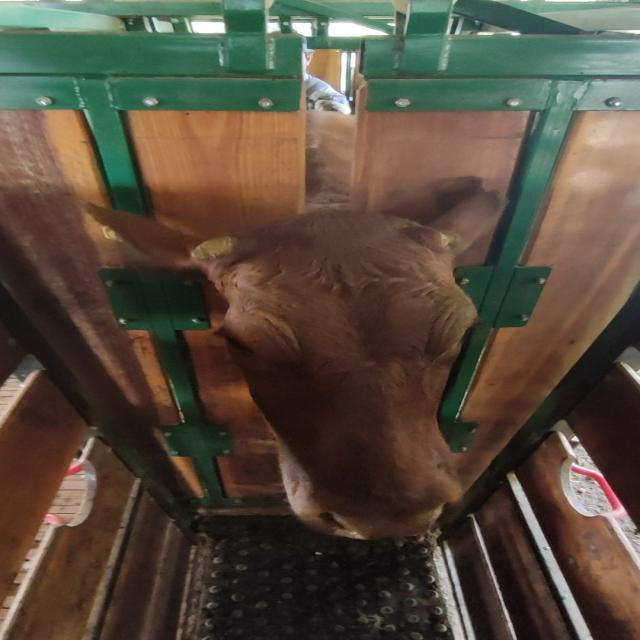cowFace: (226, 220, 482, 543)
